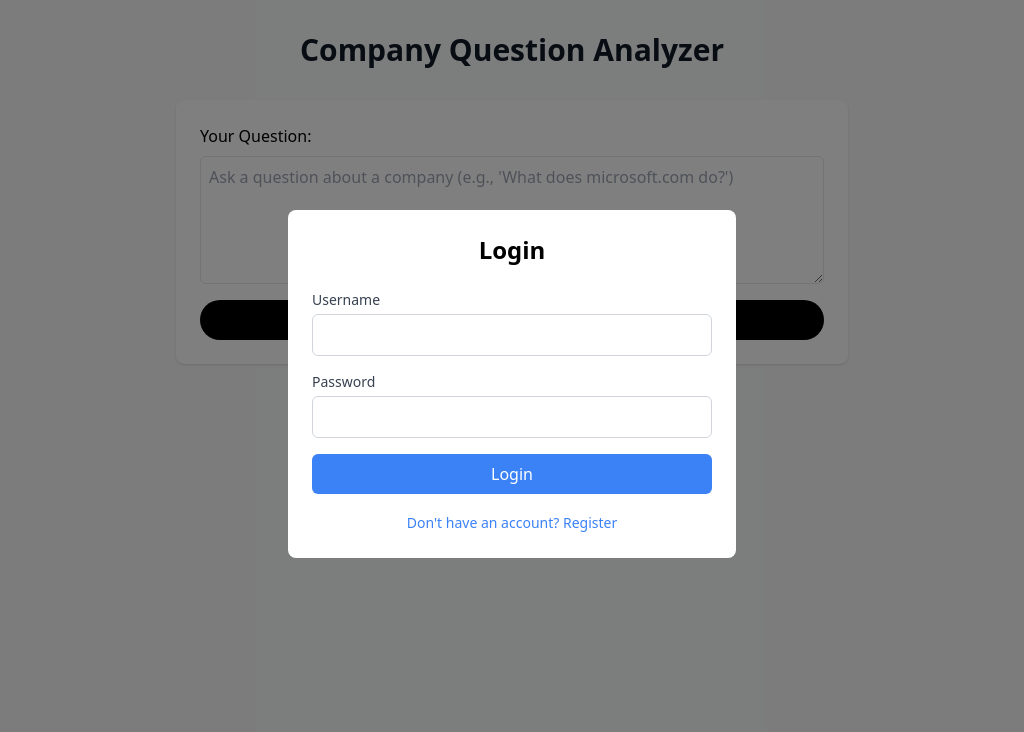
Integration Tests › should handle history interactions
In the field labelled "Username": (512, 335) [312, 314, 712, 356], type "testuser"
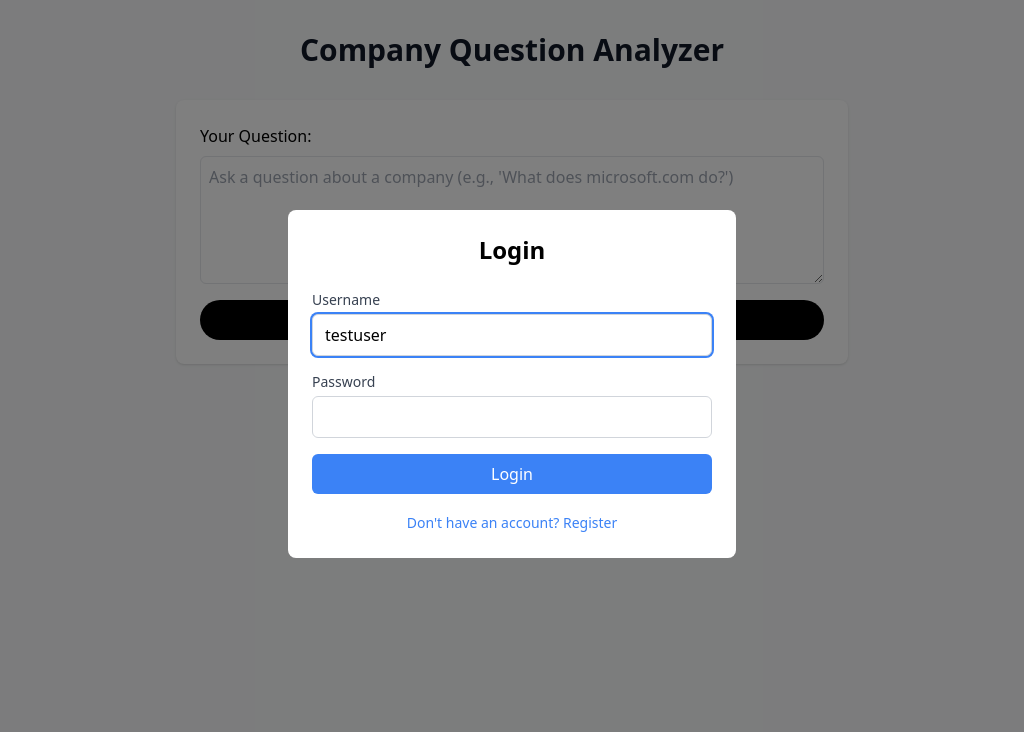
In the password field labelled "Password": (512, 417) [312, 396, 712, 438], type "password123"
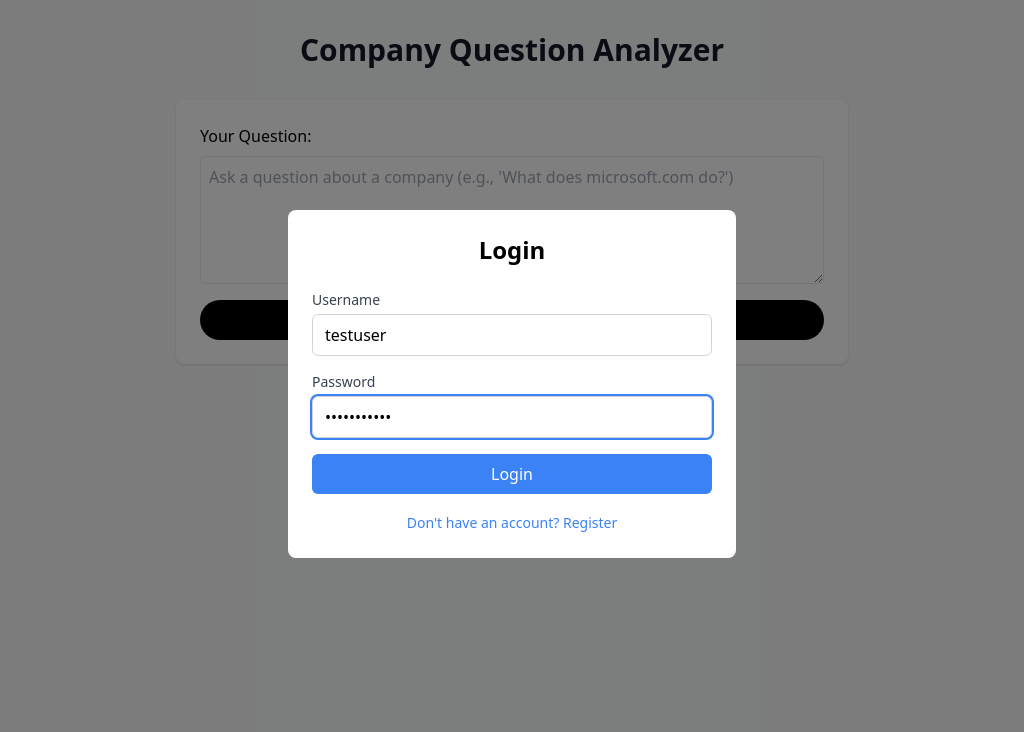
Click the button "Login": (512, 474) [312, 454, 712, 494]
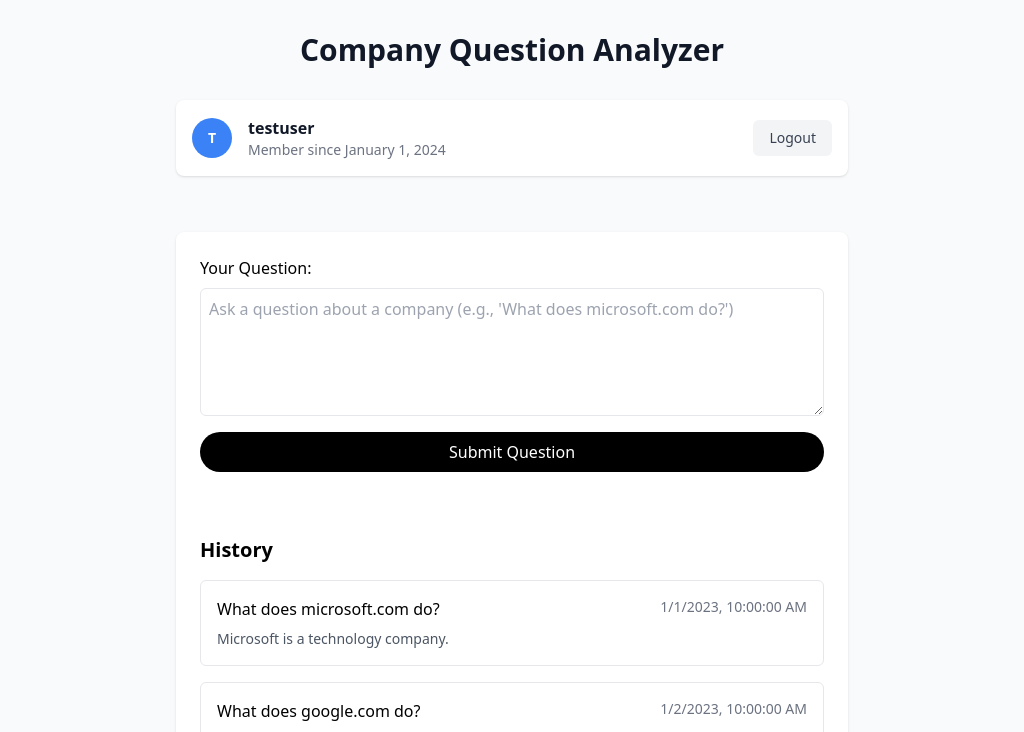
Now the heading "Login" is gone
Now the heading "History" is shown, box [200, 536, 273, 563]
Click the text "What does microsoft.com do?": (328, 609) [217, 597, 440, 621]
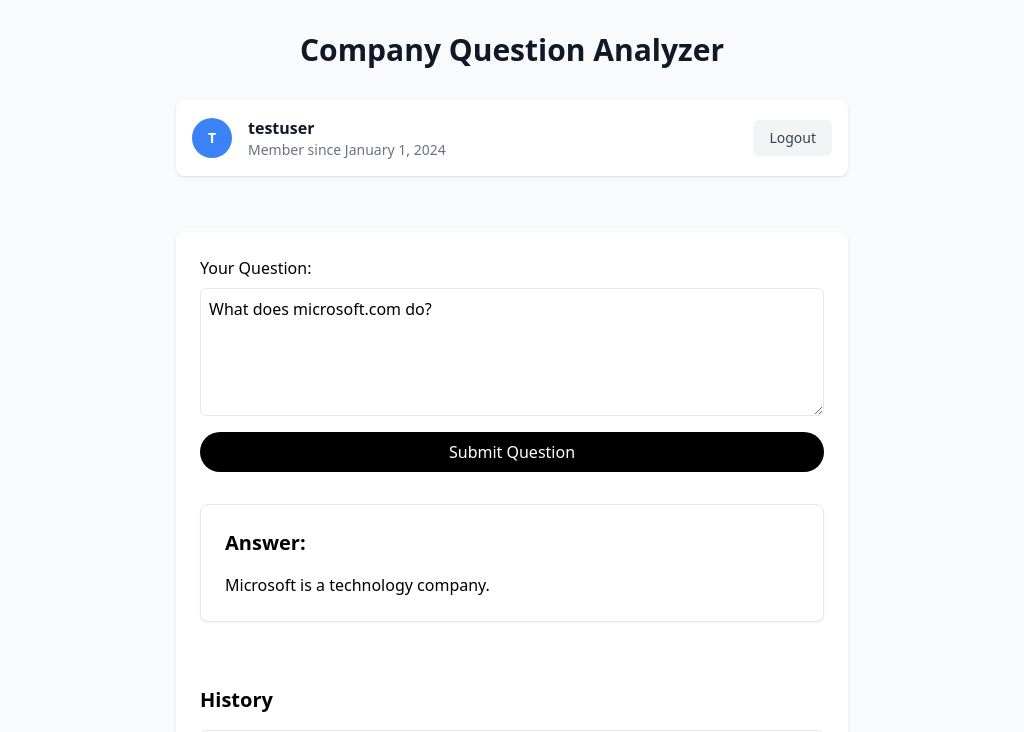
Now the text box labelled "Your Question:" holds "What does microsoft.com do?", box [200, 288, 824, 416]
